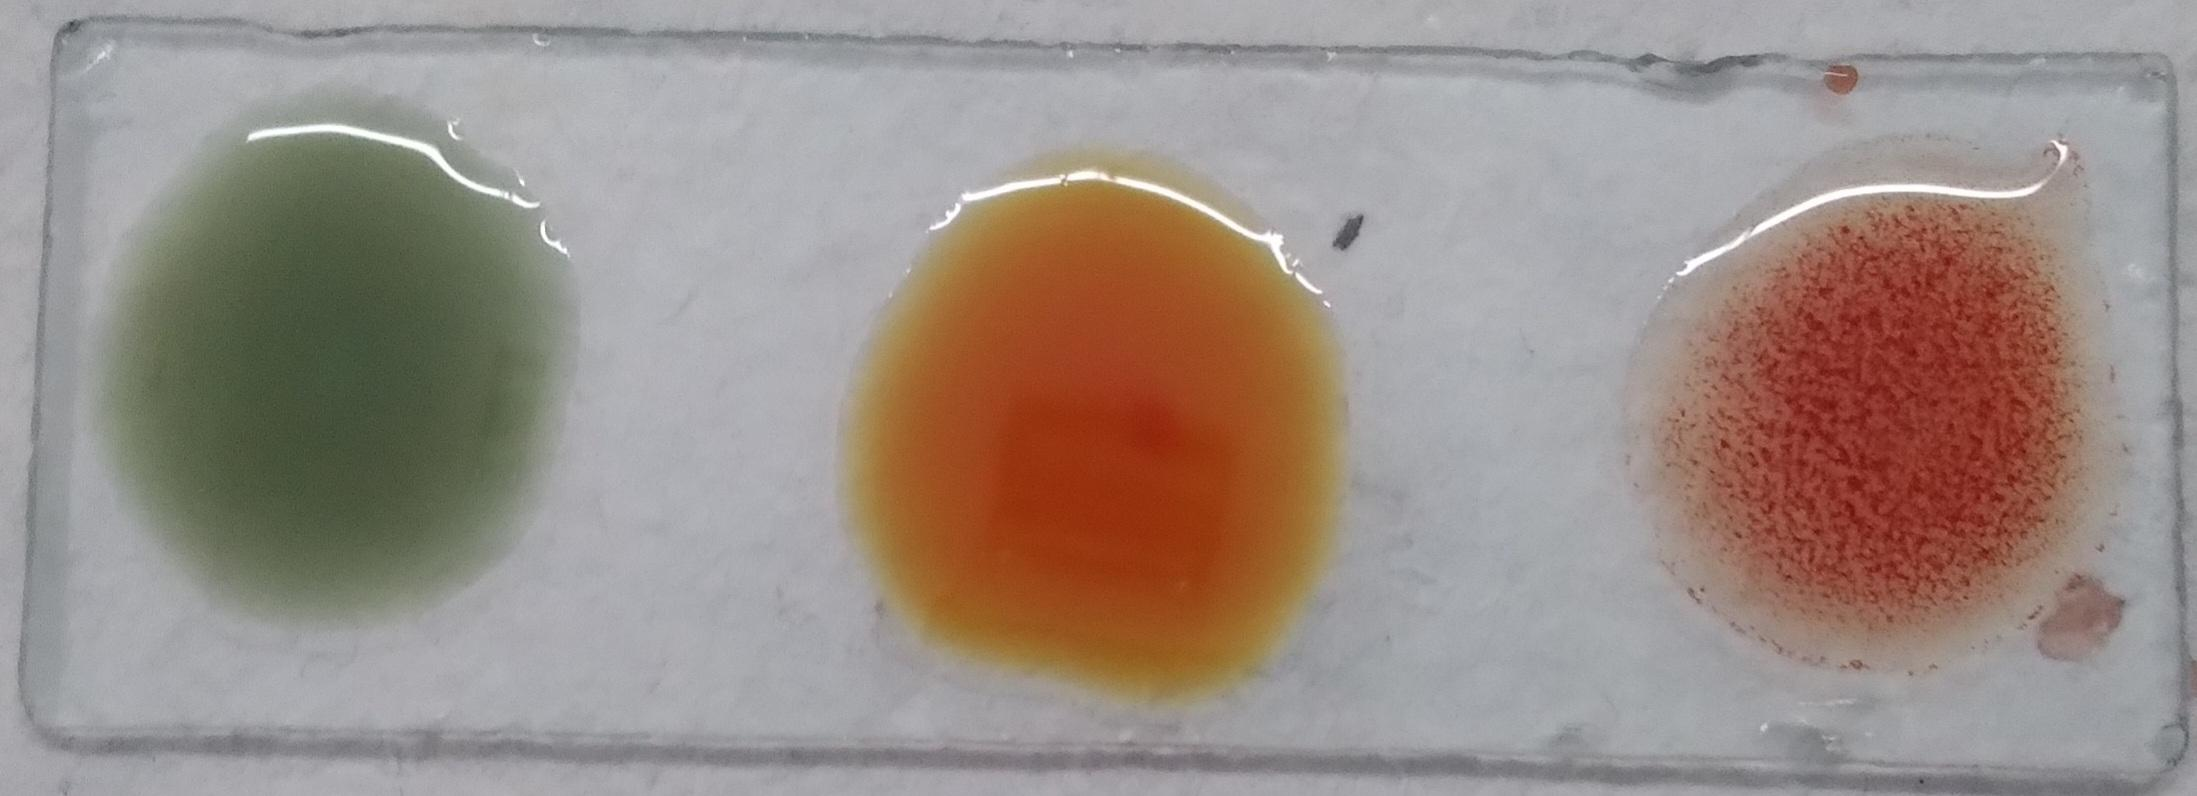D: (101, 118, 559, 631)
